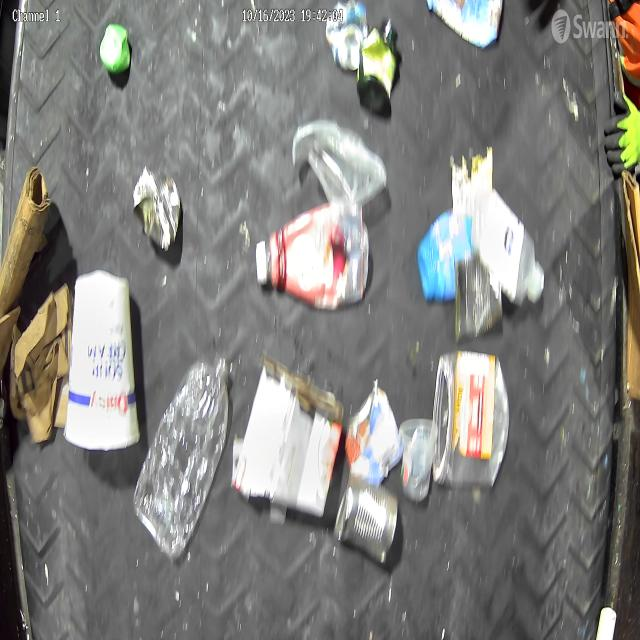can: (332, 469, 400, 565), (454, 255, 504, 344), (132, 166, 183, 252), (324, 0, 368, 75)
plastic_bottle: (132, 353, 234, 564), (254, 200, 370, 309)
